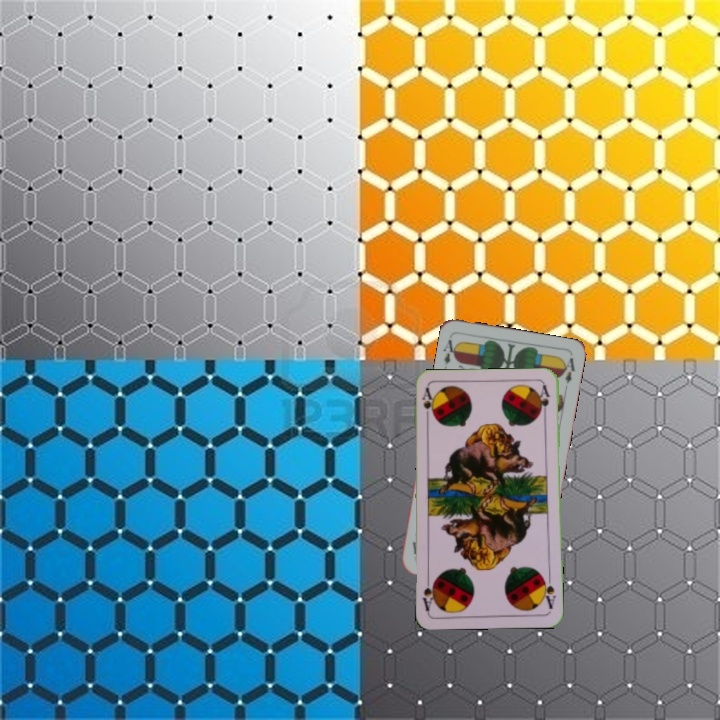EA: (439, 335, 461, 367)
SA: (539, 571, 558, 612), (418, 384, 435, 425)
